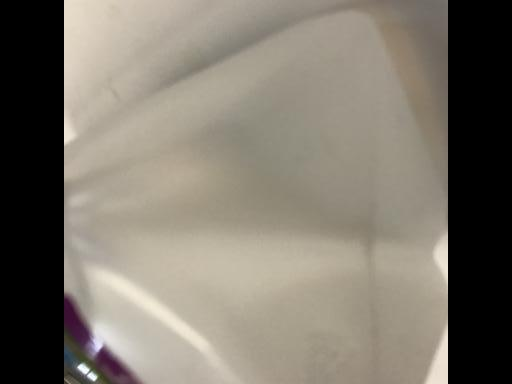trash: (70, 4, 440, 382)
